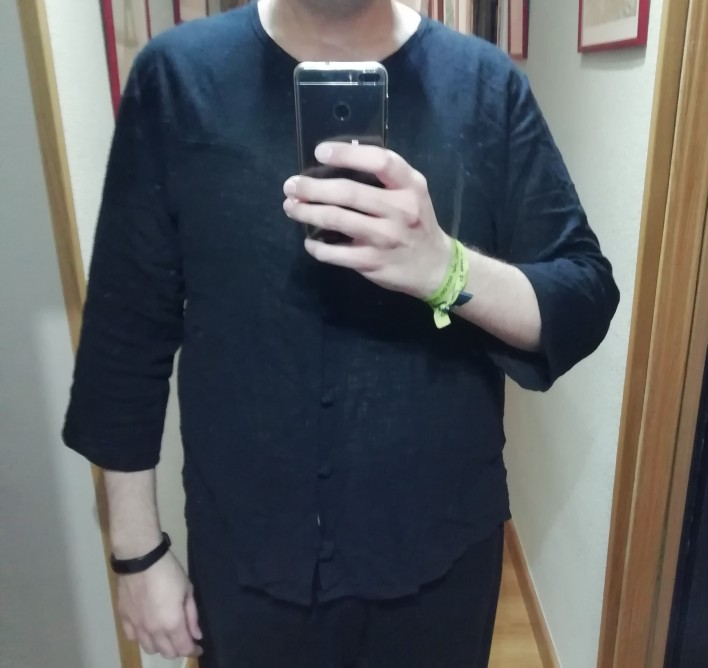shirts: (64, 21, 600, 613)
